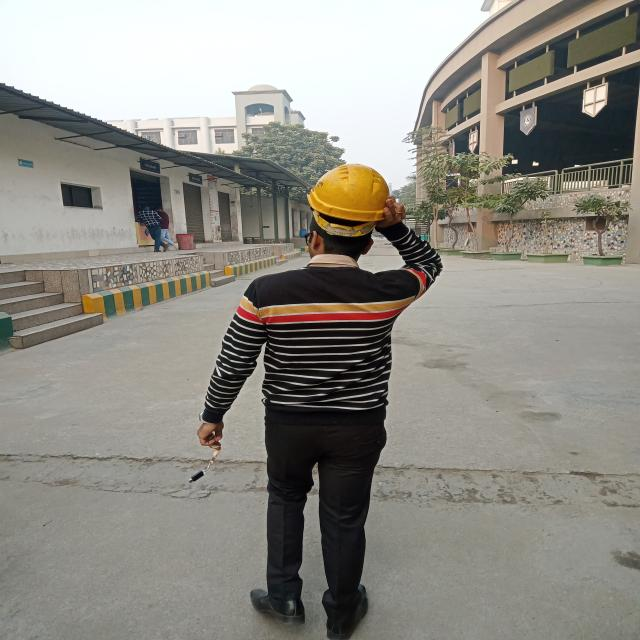no jacket: (193, 163, 450, 640)
